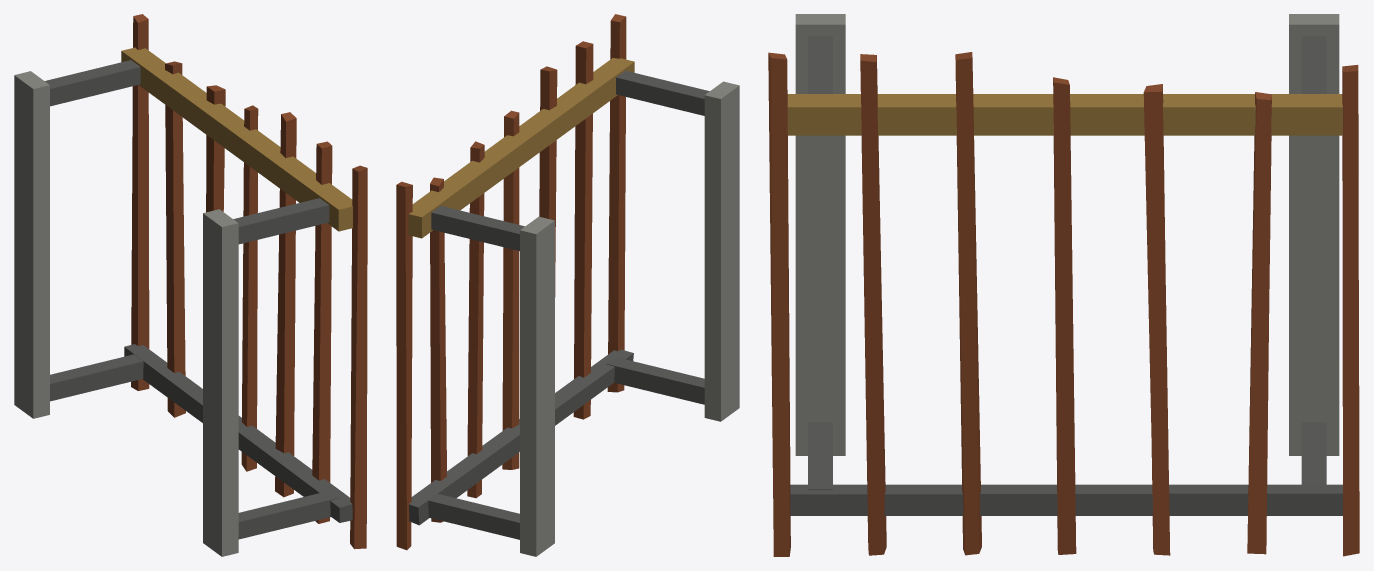
Rendered from arm_cage.glb.
3 renders of one model, left to right at view 1: azimuth 30°, elevation 25°; view 2: azimuth 150°, elevation 25°; view 3: azimuth 270°, elevation 25°, orthographic. The views are drawn at different scales.
Parts seen in each view (by area): view 1: arm_cage; view 2: arm_cage; view 3: arm_cage.
Boxes of the visible parts, x1=… form: arm_cage: x1=14, y1=14, x2=367, y2=556; arm_cage: x1=396, y1=14, x2=739, y2=556; arm_cage: x1=768, y1=14, x2=1359, y2=556.
Bounding box in the file's own units: 0.3302 × 0.8789 × 0.9442.
